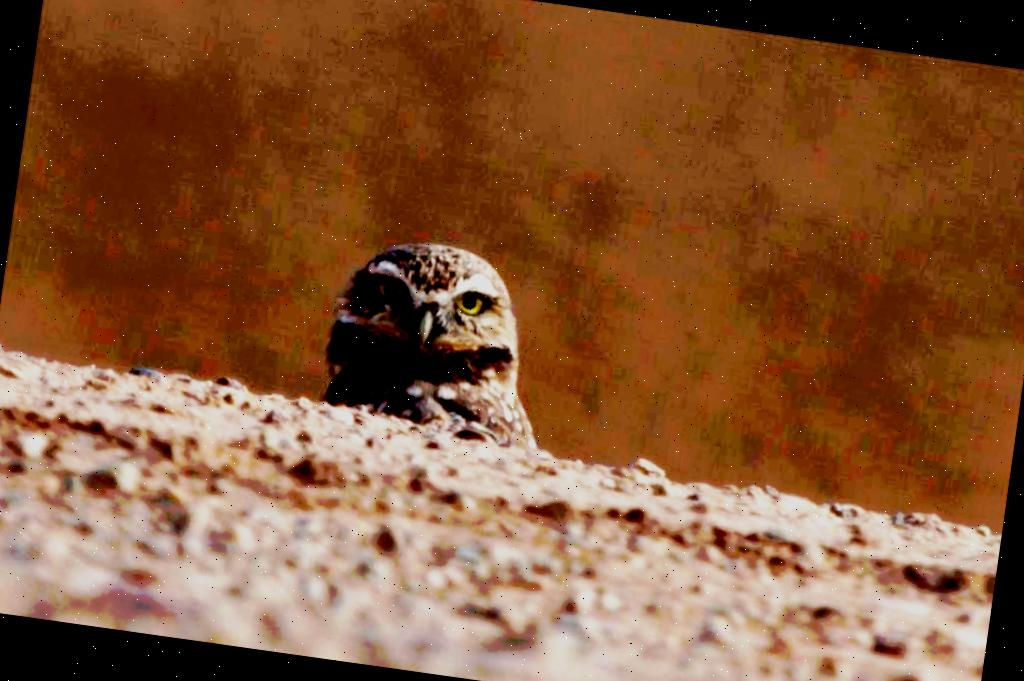Owl: (314, 227, 566, 446)
